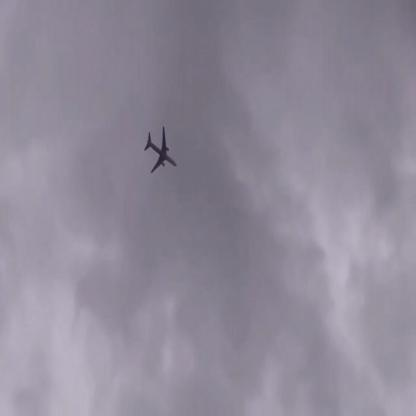plane: (144, 128, 178, 173)
